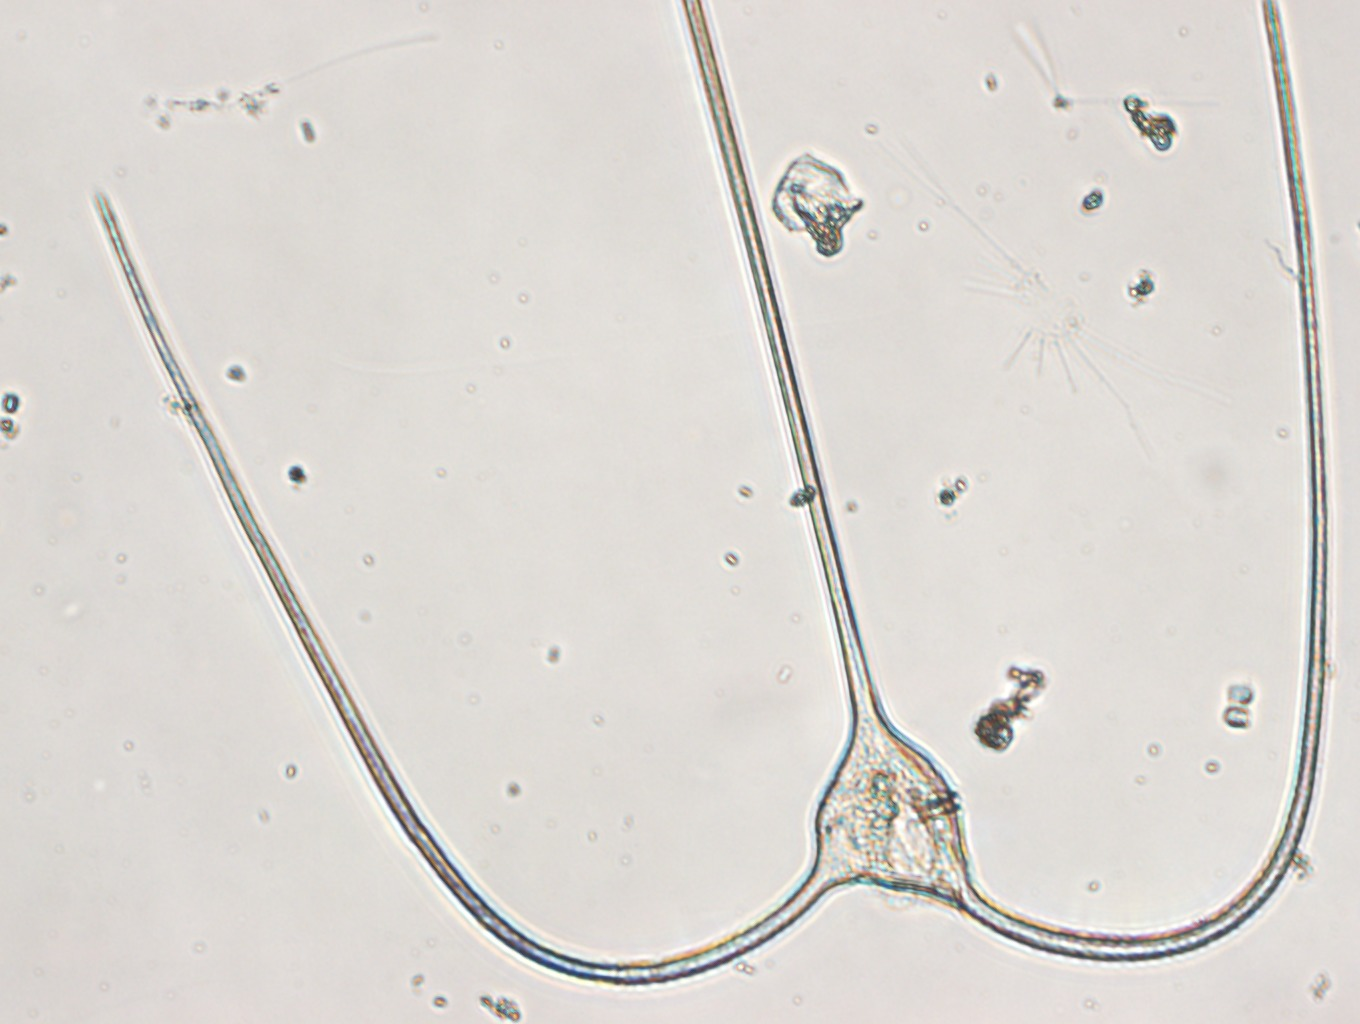ceratium trichoceros: (94, 1, 1360, 998)
